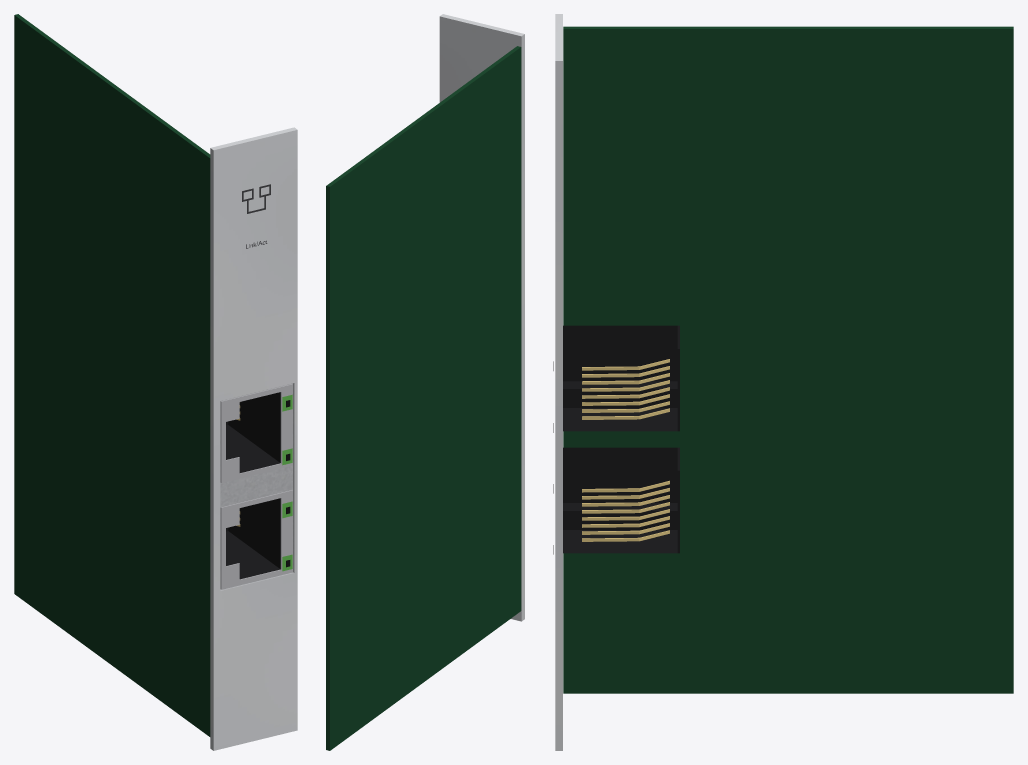
The picture shows the model from 3 angles, left to right: view 1: azimuth 30°, elevation 25°; view 2: azimuth 150°, elevation 25°; view 3: azimuth 270°, elevation 25°; orthographic projection. The views are drawn at different scales.
Visible parts, largest first — view 1: Card; view 2: Card; view 3: Card.
Part boxes in pixels (x1,y1,x2,y2): Card: (14, 14, 297, 750); Card: (326, 14, 524, 750); Card: (555, 14, 1013, 750).
Bounding box in the file's own units: 0.0146 × 0.0996 × 0.0603.
Materials: 9 (2 with a texture image).
